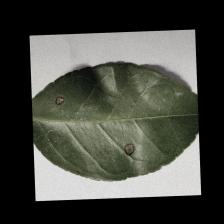canker: (47, 88, 172, 173)
